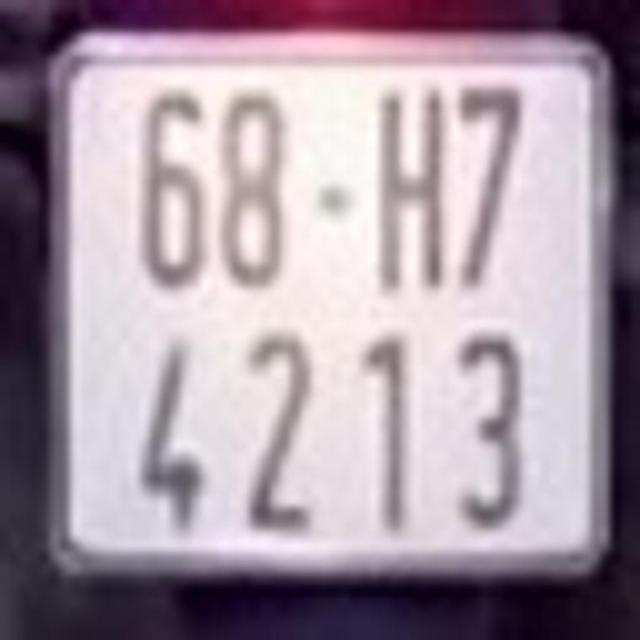1: (353, 325, 415, 538)
2: (237, 320, 318, 529)
3: (446, 322, 528, 537)
4: (134, 320, 206, 538)
6: (136, 83, 212, 288)
7: (455, 78, 524, 292)
8: (216, 82, 292, 293)
H: (370, 80, 449, 290)
